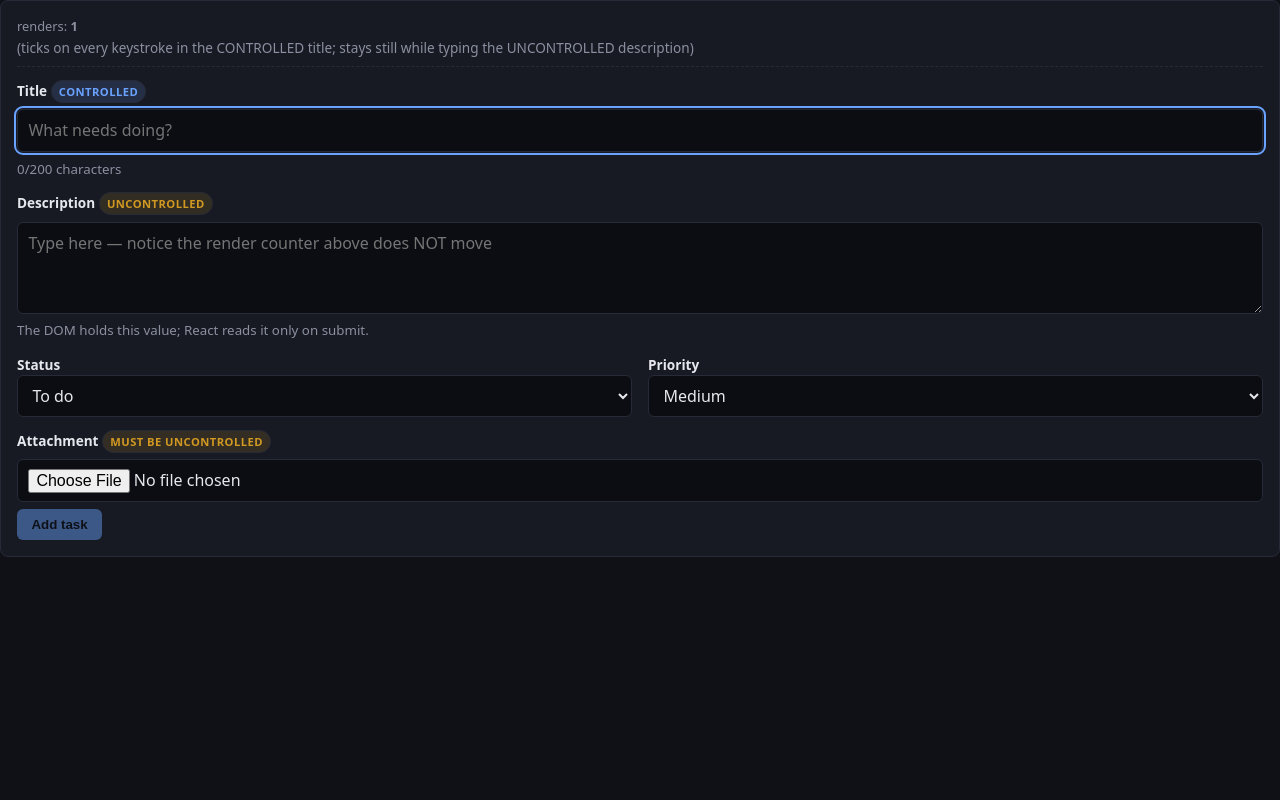
Test: TaskForm › submit is disabled until a title is entered
Check: the button "Add task" is disabled, box [17,509,102,540]
Type "Write the README" into the field labelled "Title controlled".
click(640, 131); type("Write the README")  # box [17,109,1263,152]
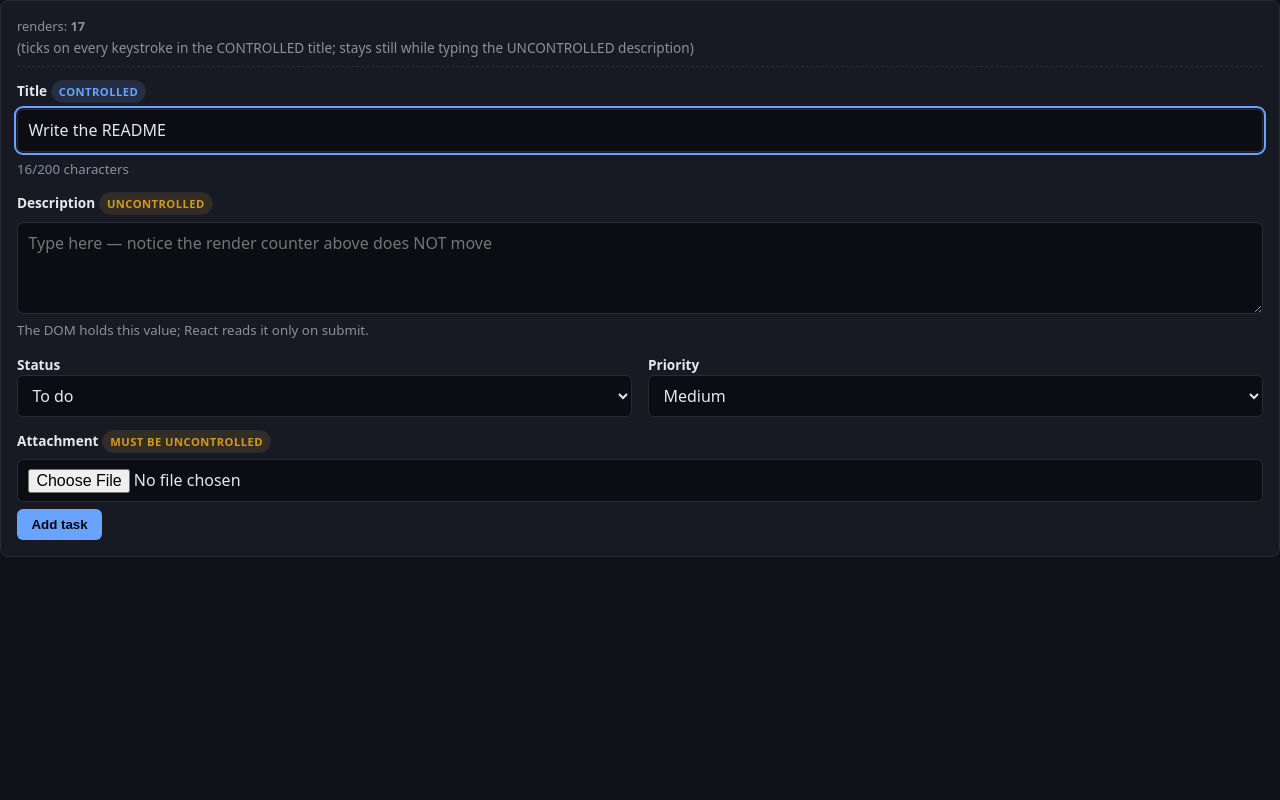
Check: the button "Add task" is enabled, box [17,509,102,540]
